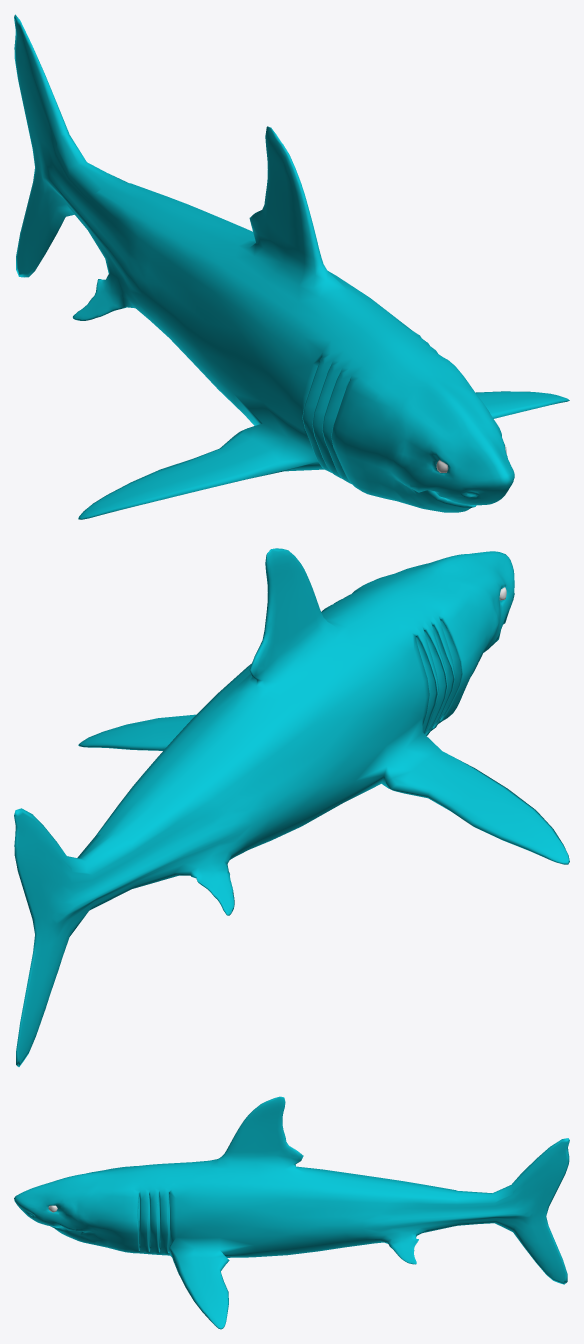
Rendered from shark.fbx.
3 renders of one model, top to bottom at view 1: azimuth 30°, elevation 25°; view 2: azimuth 150°, elevation 25°; view 3: azimuth 270°, elevation 25°, orthographic. The views are drawn at different scales.
Parts seen in each view (by area): view 1: obj-shark; view 2: obj-shark; view 3: obj-shark.
Part boxes in pixels (x1,y1,x2,y2): obj-shark: [14, 14, 569, 519]; obj-shark: [14, 548, 569, 1066]; obj-shark: [14, 1096, 569, 1329].
Bounding box in the file's own units: 612 × 398 × 1066.
2 materials, 1 textured.
